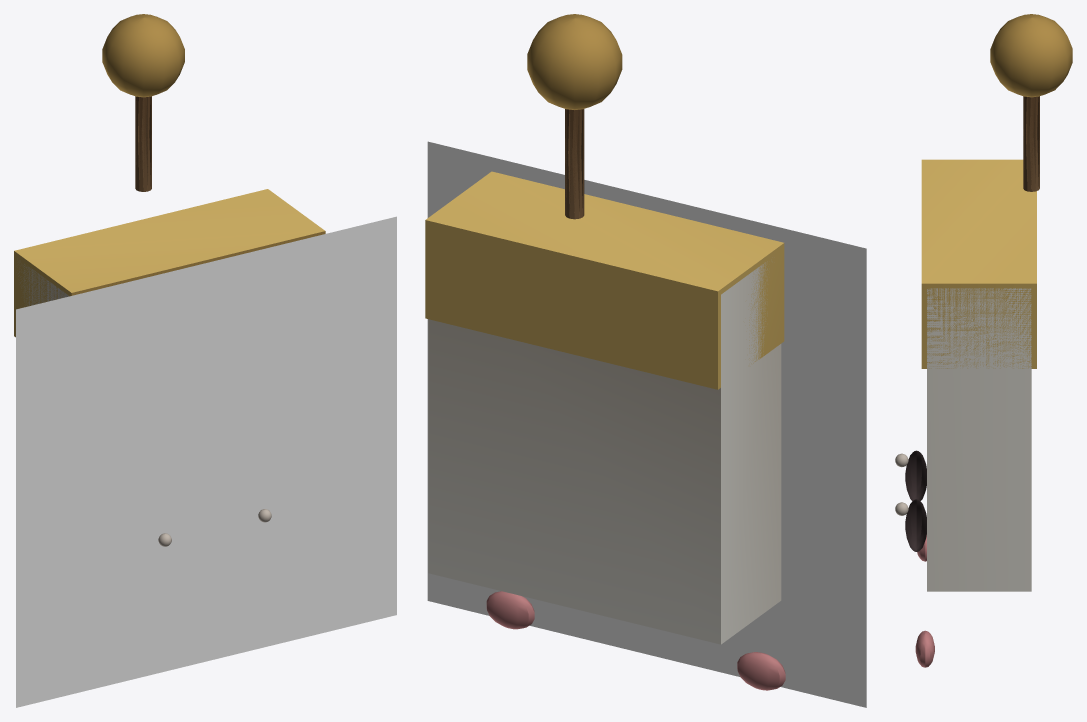
The picture shows the model from 3 angles, left to right: view 1: azimuth 30°, elevation 25°; view 2: azimuth 150°, elevation 25°; view 3: azimuth 270°, elevation 25°; orthographic projection. The views are drawn at different scales.
Visible parts, largest first — view 1: pet_p4b0c4178; view 2: pet_p4b0c4178; view 3: pet_p4b0c4178.
Boxes of the visible parts, <box> form: pet_p4b0c4178: <box>14,14,396,707</box>; pet_p4b0c4178: <box>425,14,866,707</box>; pet_p4b0c4178: <box>895,14,1072,667</box>.
Size of the model in its own units: 0.42 by 0.63 by 0.1698.
